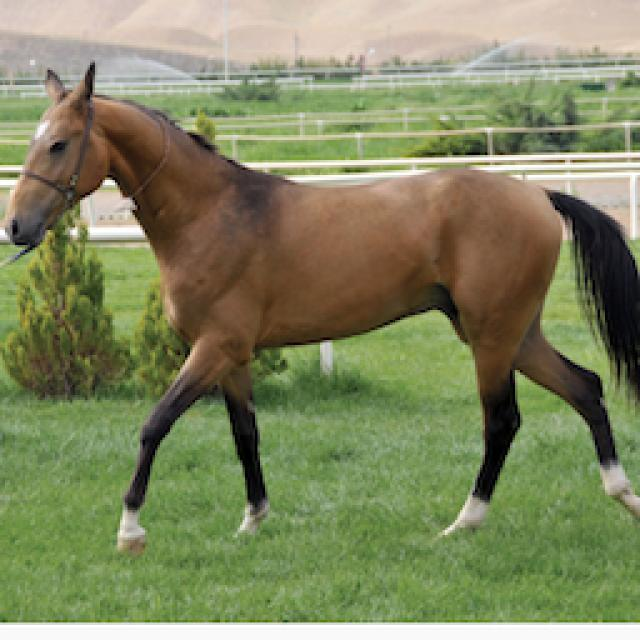Horse: (0, 55, 638, 560)
